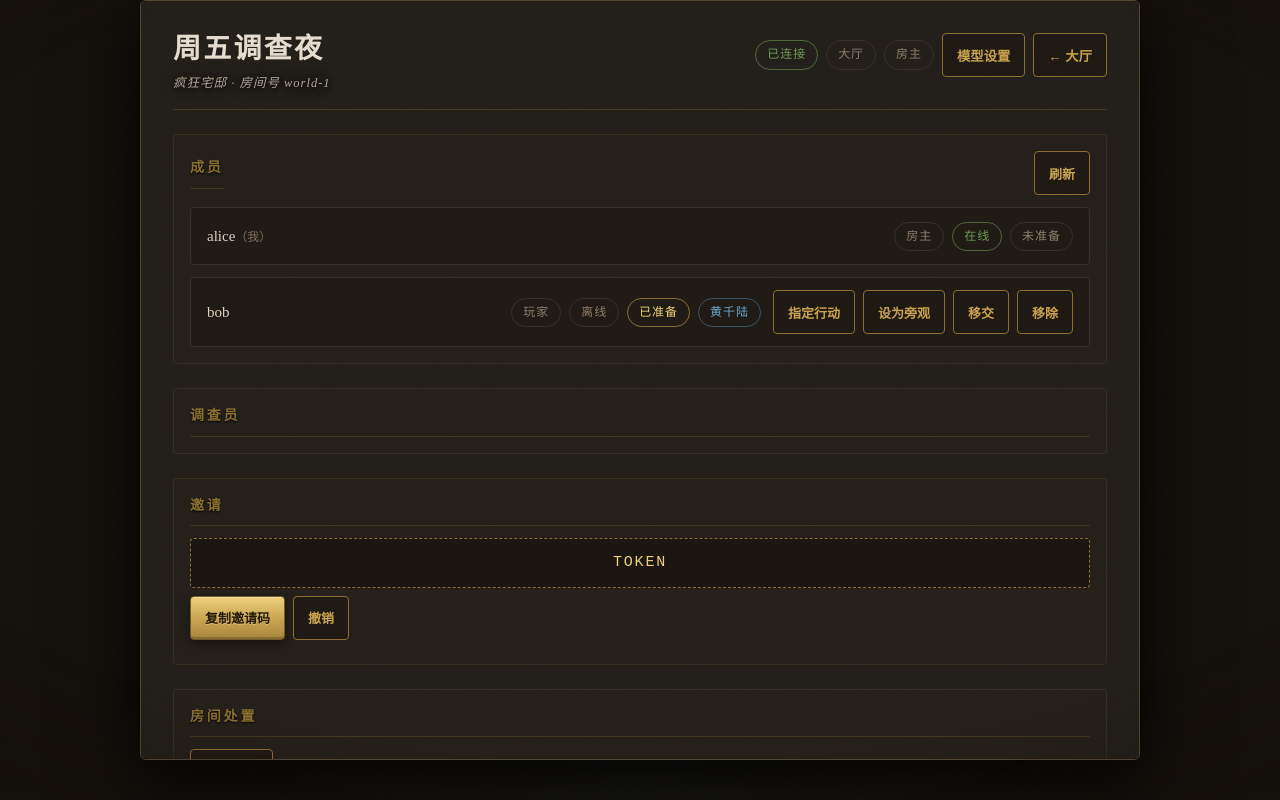
it: RoomScreen 邀请、退出与标题 › 剪贴板拒绝时提示手动复制，成功重试才显示已复制
Click the button "复制邀请码": (238, 618) [190,596,285,640]
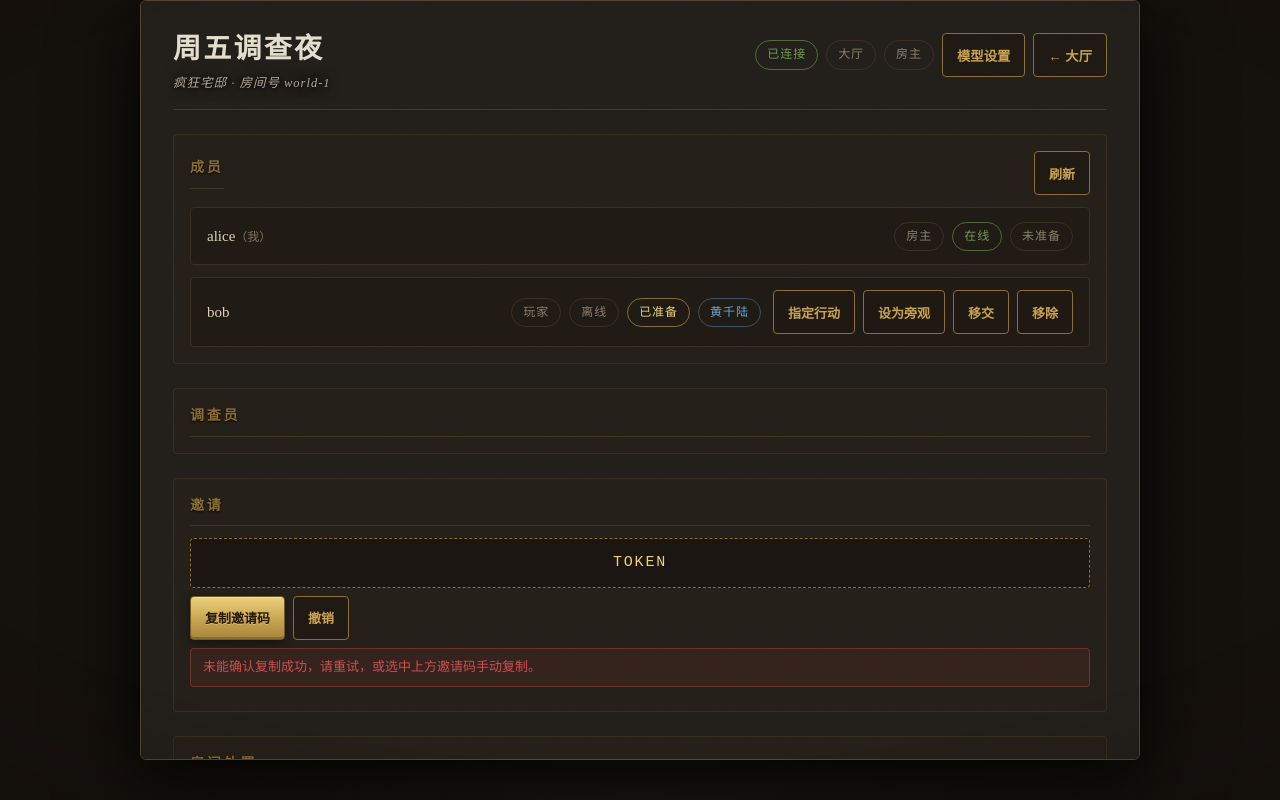
Now the message "未能确认复制成功，请重试，或选中上方邀请码手动复制。" is shown, box [190,648,1090,687]
Click the button "复制邀请码": (238, 618) [190,596,285,640]
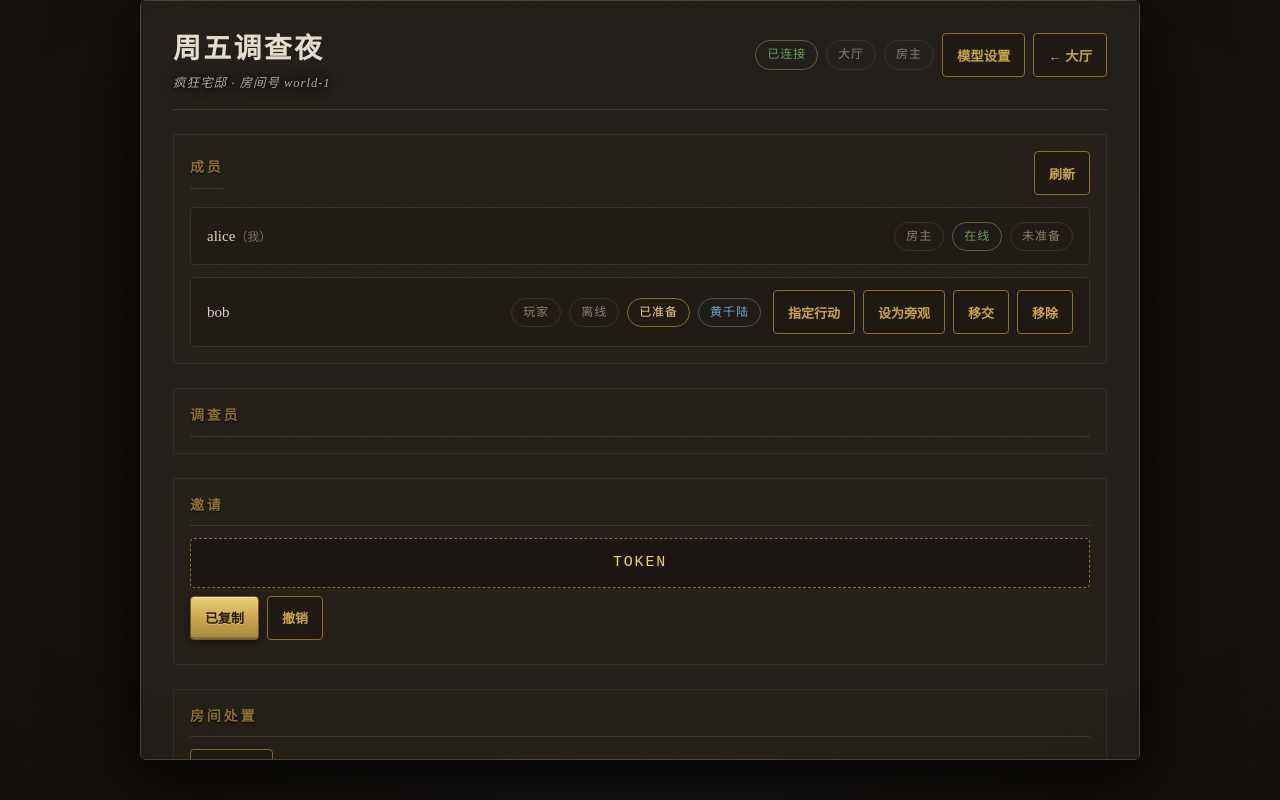
Expected: the button "已复制" is enabled, [190,596,259,640]
Now the message "未能确认复制成功，请重试，或选中上方邀请码手动复制。" is gone
